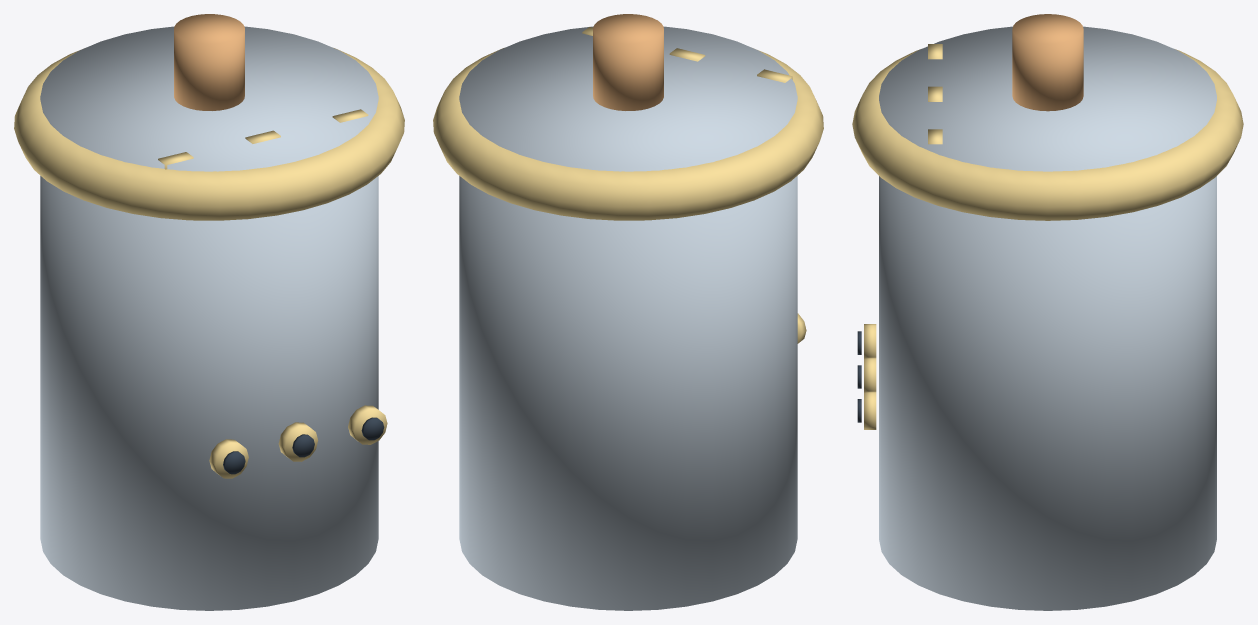
Rendered from 66_L93_VolatileCollectionReservoir.fbx.
3 views of the same model, side by side, from view 1: azimuth 30°, elevation 25°; view 2: azimuth 150°, elevation 25°; view 3: azimuth 270°, elevation 25° (orthographic).
Parts seen in each view (by area): view 1: L92_VolatileCollectionReservo_Part_0000, L92_VolatileCollectionReservo_Part_0001, L92_VolatileCollectionReservo_Part_0002, L92_VolatileCollectionReservo_Part_0003, L92_VolatileCollectionReservo_Part_0004, L92_VolatileCollectionReservo_Part_0006, L92_VolatileCollectionReservo_Part_0008; view 2: L92_VolatileCollectionReservo_Part_0000, L92_VolatileCollectionReservo_Part_0001, L92_VolatileCollectionReservo_Part_0002, L92_VolatileCollectionReservo_Part_0003; view 3: L92_VolatileCollectionReservo_Part_0000, L92_VolatileCollectionReservo_Part_0001, L92_VolatileCollectionReservo_Part_0002, L92_VolatileCollectionReservo_Part_0003.
Part boxes in pixels (box(x1,y1,x2,y2)): L92_VolatileCollectionReservo_Part_0000: box(40, 26, 378, 610); L92_VolatileCollectionReservo_Part_0001: box(14, 48, 404, 220); L92_VolatileCollectionReservo_Part_0002: box(174, 14, 244, 110); L92_VolatileCollectionReservo_Part_0003: box(158, 109, 368, 169); L92_VolatileCollectionReservo_Part_0004: box(209, 439, 248, 478); L92_VolatileCollectionReservo_Part_0006: box(278, 422, 318, 461); L92_VolatileCollectionReservo_Part_0008: box(348, 405, 387, 444); L92_VolatileCollectionReservo_Part_0000: box(459, 26, 797, 610); L92_VolatileCollectionReservo_Part_0001: box(433, 48, 823, 220); L92_VolatileCollectionReservo_Part_0002: box(593, 14, 663, 110); L92_VolatileCollectionReservo_Part_0003: box(582, 27, 792, 82); L92_VolatileCollectionReservo_Part_0000: box(879, 26, 1216, 610); L92_VolatileCollectionReservo_Part_0001: box(852, 49, 1243, 220); L92_VolatileCollectionReservo_Part_0002: box(1012, 14, 1083, 111); L92_VolatileCollectionReservo_Part_0003: box(928, 44, 942, 144).
Bounding box in the file's own units: 1.32 × 1.9 × 1.32.
